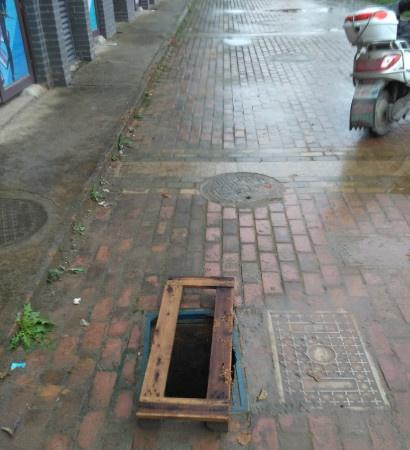wellcover: (112, 266, 254, 415), (250, 300, 408, 426), (201, 161, 291, 211), (0, 181, 46, 258)
